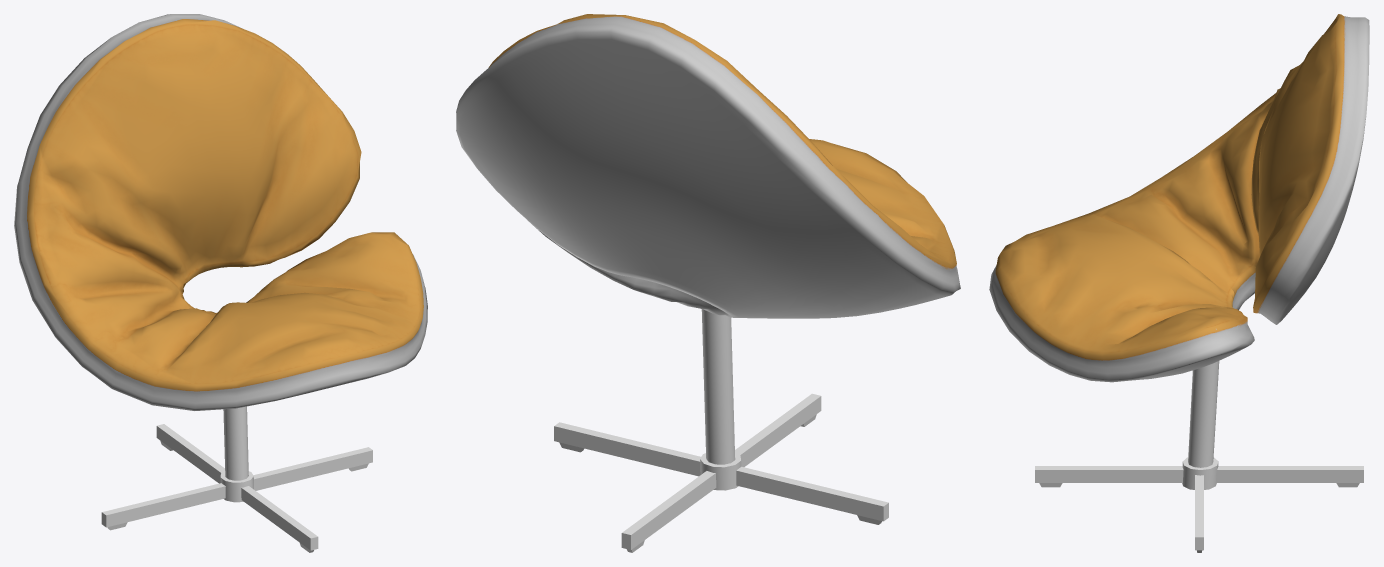
Rendered from chair_modern2.glb.
The picture shows the model from 3 angles, left to right: view 1: azimuth 30°, elevation 25°; view 2: azimuth 150°, elevation 25°; view 3: azimuth 270°, elevation 25°; orthographic projection. The views are drawn at different scales.
Visible parts, largest first — view 1: Group1196; view 2: Group1196; view 3: Group1196.
Part boxes in pixels (bbox=[...]): Group1196: bbox=[14, 14, 427, 552]; Group1196: bbox=[456, 14, 960, 552]; Group1196: bbox=[989, 14, 1369, 552].
Bounding box in the file's own units: 125 × 143 × 108.
Materials: 2 (1 with a texture image).
